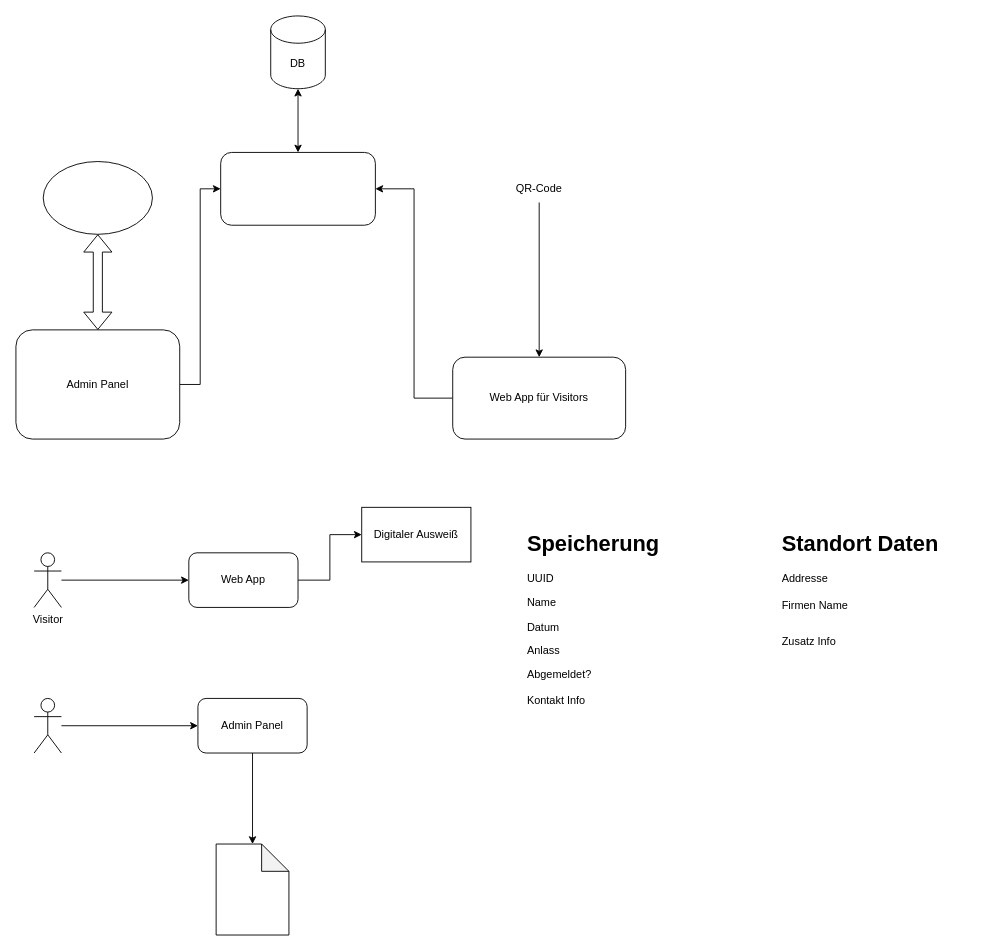
The diagram is 987 pixels wide and 951 high, and some of its shapes have lost their labels. The centre of each missing label's shape, as x and y in pixels:
"Admin" goes at [47,725].
"Backend" goes at [297,188].
"Besucherpass" goes at [252,889].
"OIDC" goes at [97,197].
